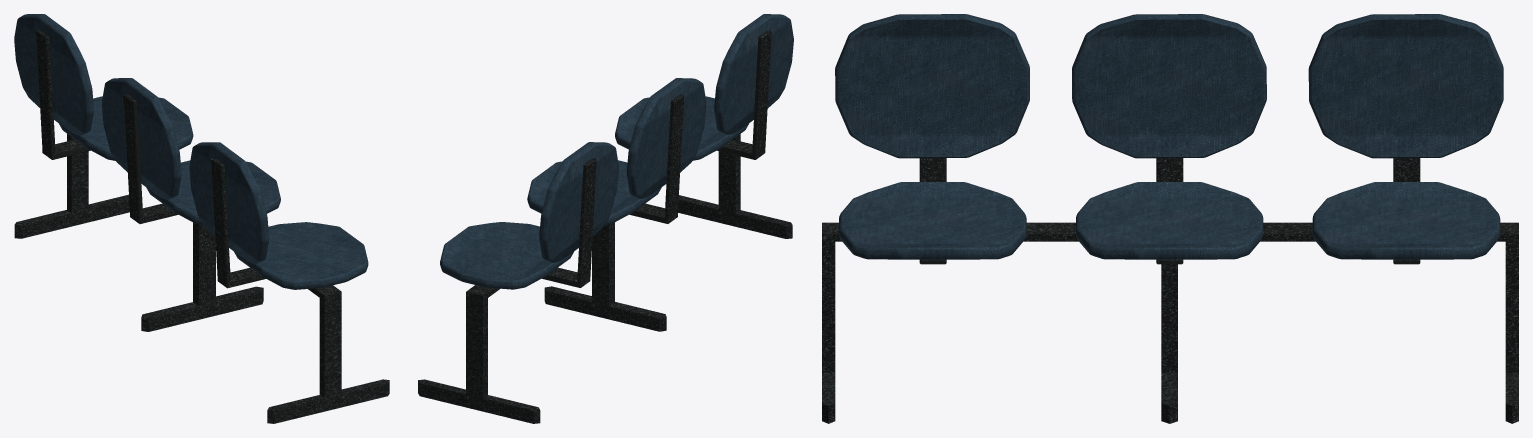
Rendered from patient_chairs_01.glb.
3 views of the same model, side by side, from view 1: azimuth 30°, elevation 25°; view 2: azimuth 150°, elevation 25°; view 3: azimuth 270°, elevation 25° (orthographic). The views are drawn at different scales.
Visible parts, largest first — view 1: asiento.002 (×6), patas, sosten, sosten.001, sosten.002; view 2: asiento.002 (×6), patas, sosten, sosten.001, sosten.002; view 3: asiento.002 (×6), patas, sosten, sosten.001, sosten.002.
Part boxes in pixels (x1,y1,x2,y2): asiento.002 (×6): (14, 14, 368, 289); patas: (14, 134, 389, 423); sosten: (123, 94, 178, 223); sosten.001: (211, 158, 265, 288); sosten.002: (36, 29, 90, 159); asiento.002 (×6): (440, 14, 793, 289); patas: (418, 134, 792, 423); sosten: (629, 94, 684, 223); sosten.001: (717, 30, 771, 159); sosten.002: (542, 158, 596, 287); asiento.002 (×6): (835, 14, 1503, 259); patas: (822, 222, 1518, 423); sosten: (1156, 158, 1183, 264); sosten.001: (919, 158, 946, 264); sosten.002: (1393, 158, 1420, 264).
Bounding box in the file's own units: 0.506 × 0.8614 × 1.66.
4 materials, 4 textured.
